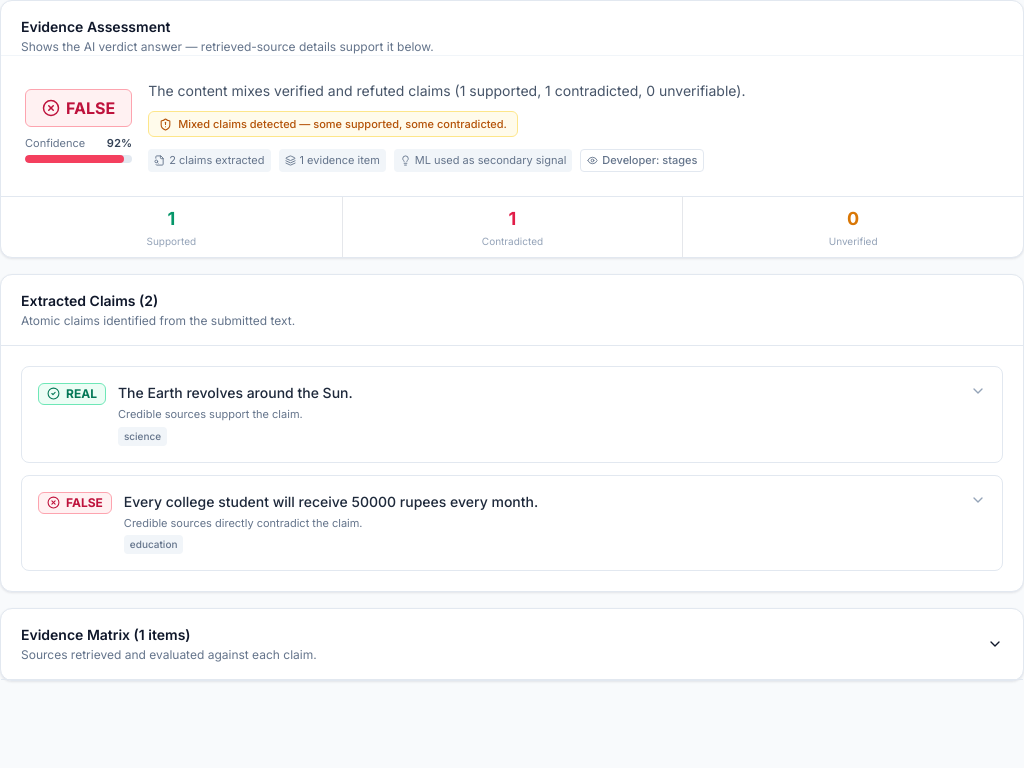
Test case: VerificationSection › expands the evidence matrix table
Check: the text "Relevance" is not shown
Click the heading "Evidence Matrix (1 items)" at (106, 635), box top-left (21, 626), bottom-right (190, 643)
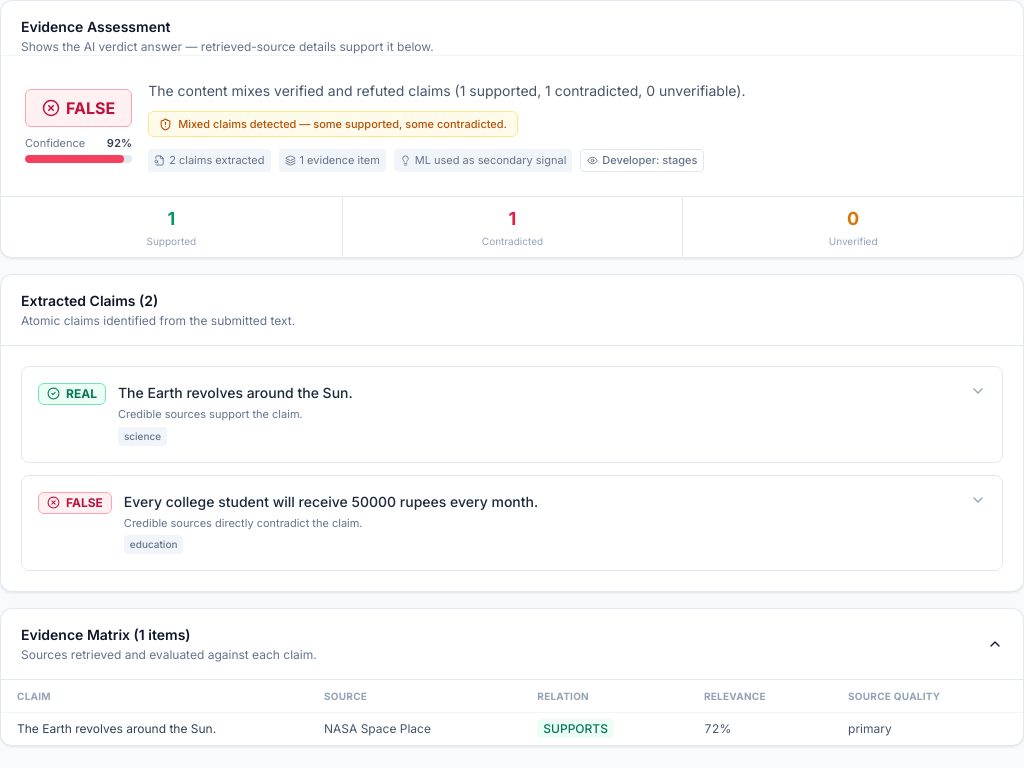
Check: the column heading "Relevance" is shown, box top-left (688, 680), bottom-right (832, 713)
Check: the text "NASA Space Place" is shown, box top-left (308, 713), bottom-right (521, 745)
Check: the text "SUPPORTS" is shown, box top-left (537, 719), bottom-right (614, 738)
